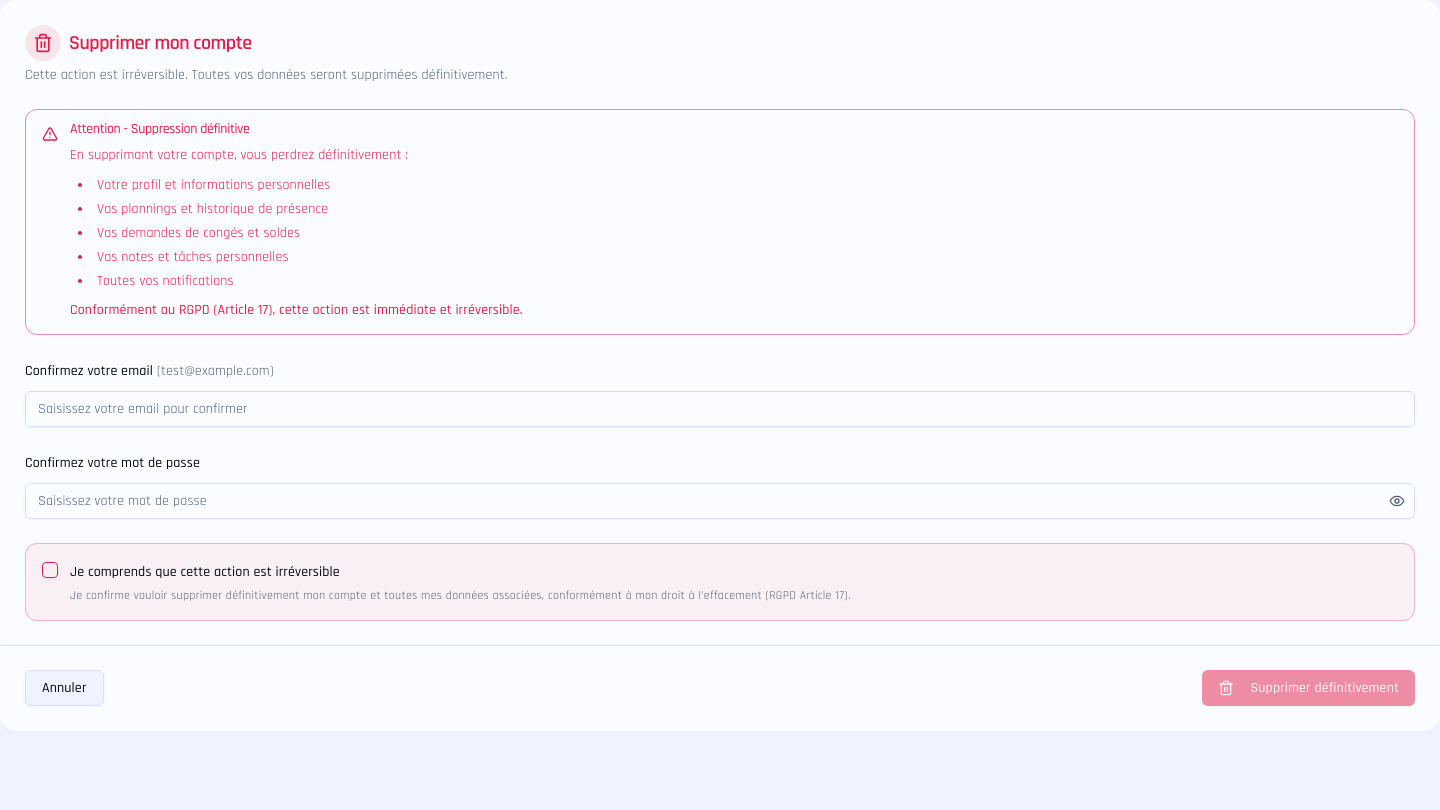
Scenario: DeleteAccountForm › Gestion des erreurs serveur › should show field error when email does not match
The width and height of the screenshot is (1440, 810).
Type "wrong@email.com" into the field with test id "confirm-email-input". click: [720, 408]
box: [25, 390, 1415, 426]
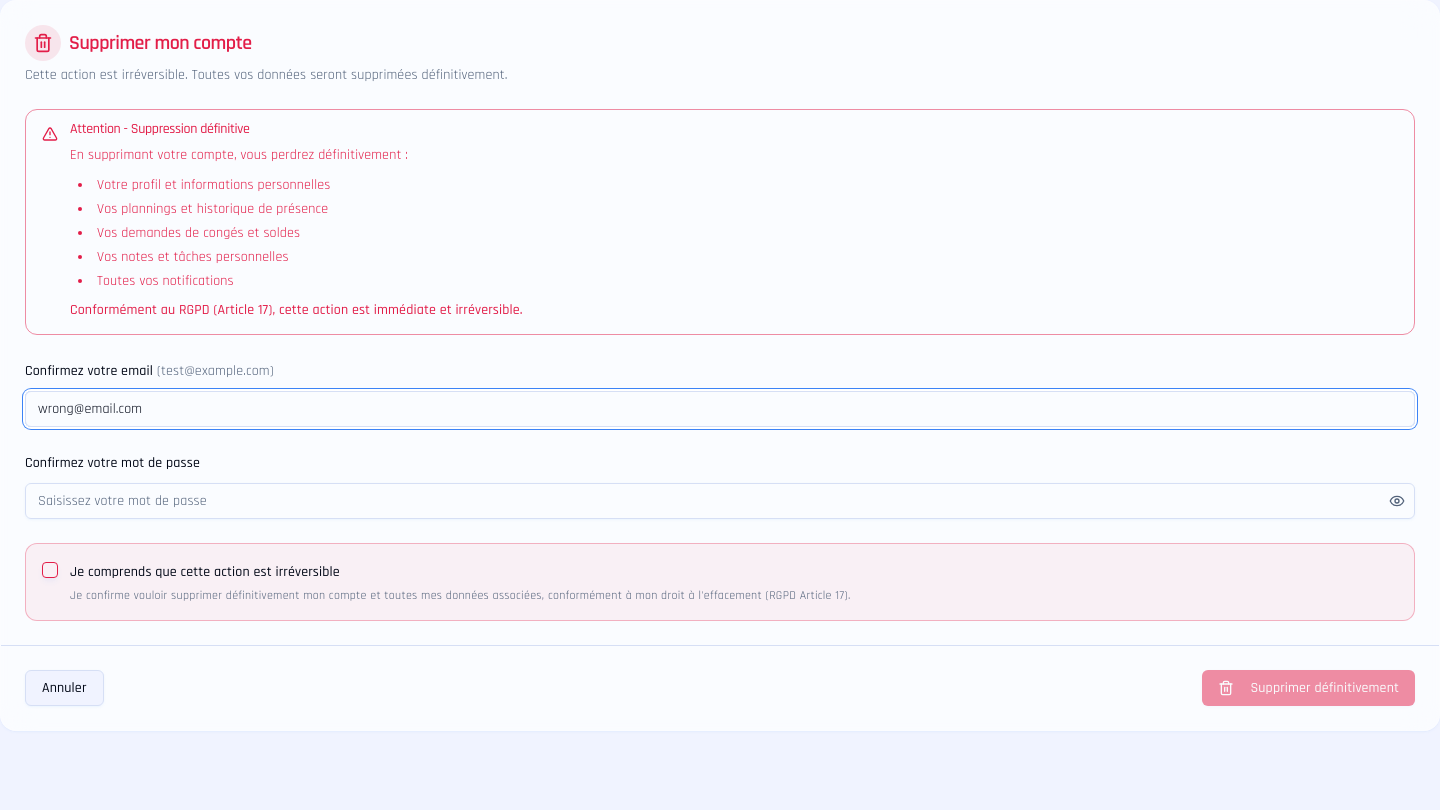
Type "ValidP@ss123" into the password field with test id "password-input". click: [720, 500]
box: [25, 482, 1415, 518]
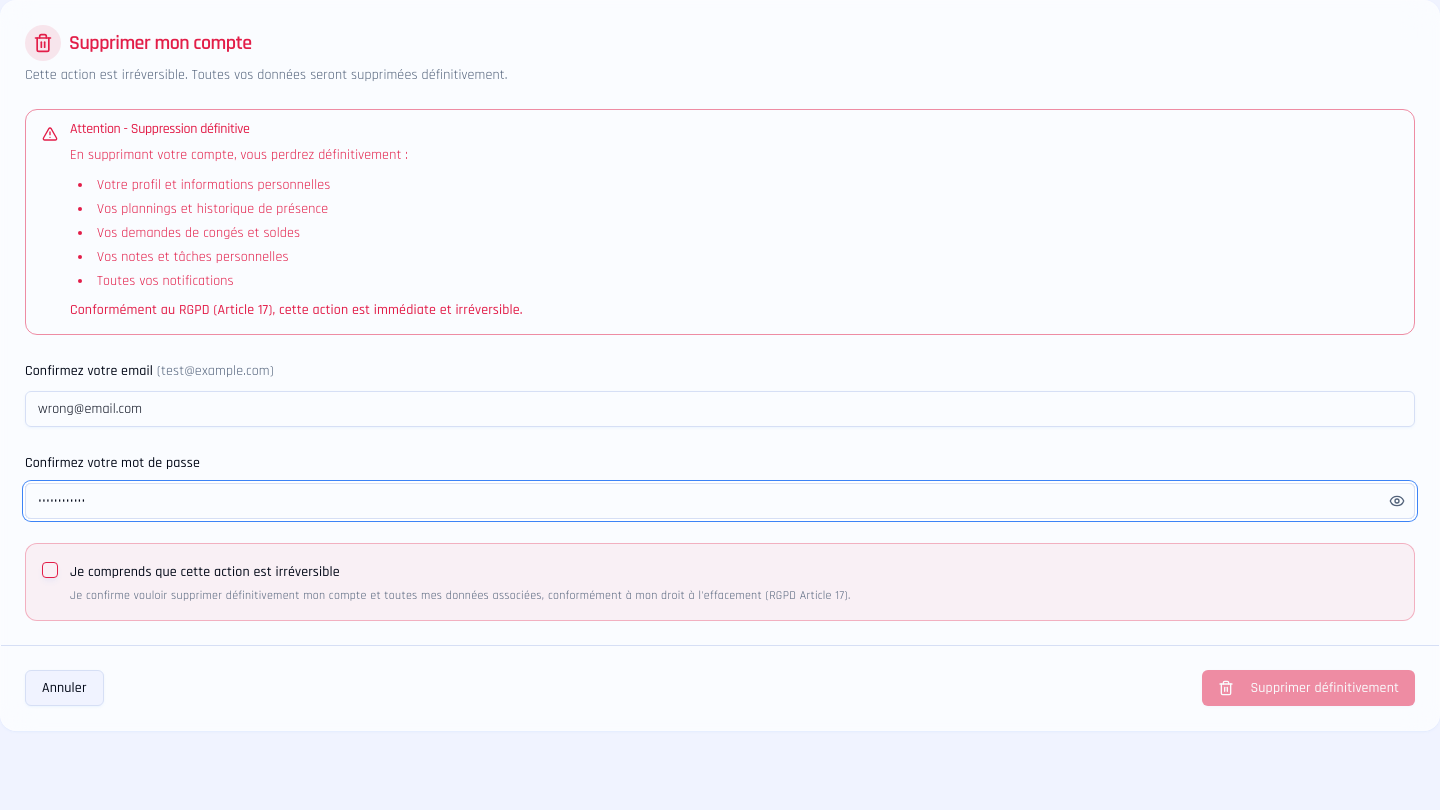
Click the checkbox with test id "confirm-deletion-checkbox". click: [50, 570]
box: [42, 562, 58, 578]
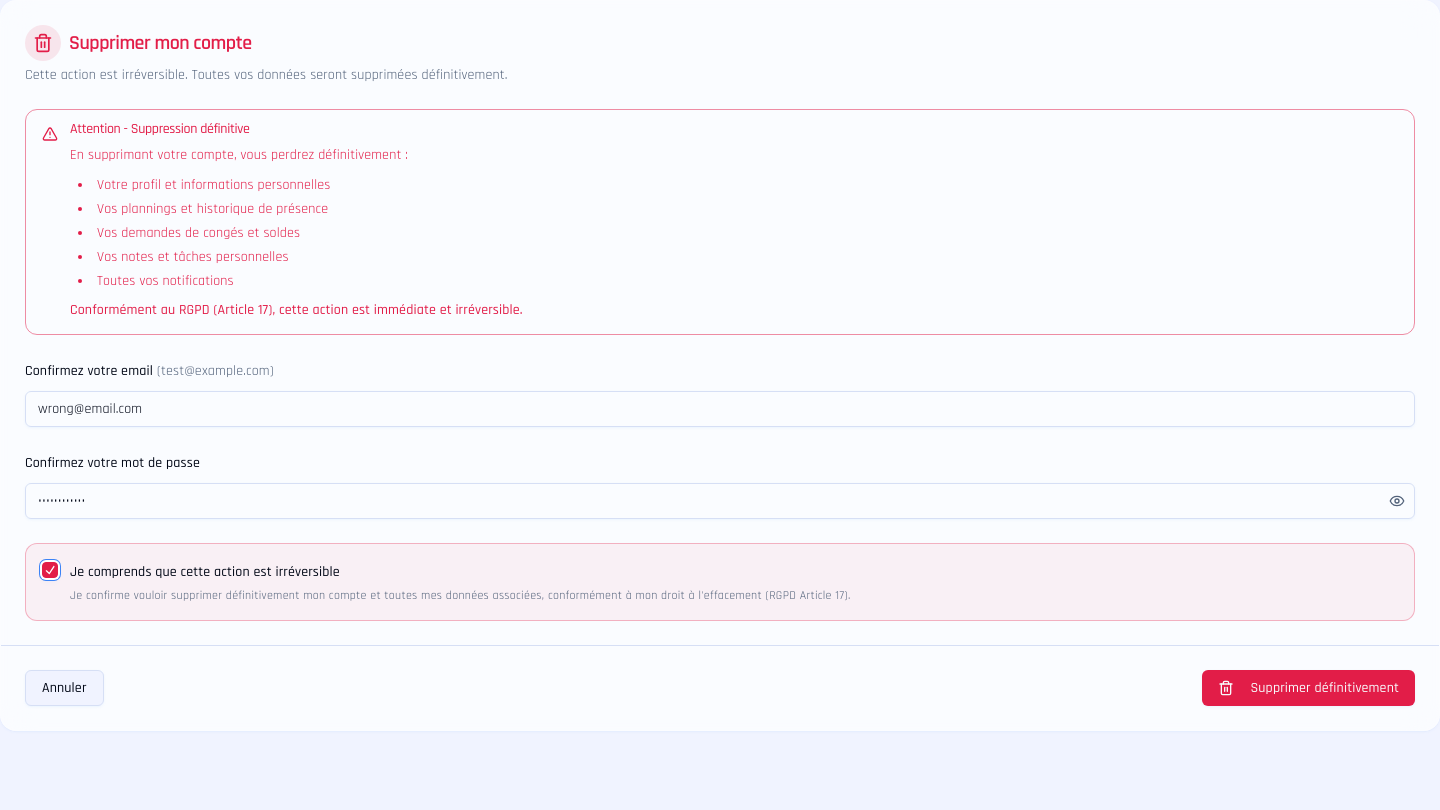
Click the button with test id "delete-account-button". click: [1309, 688]
box: [1202, 670, 1415, 706]
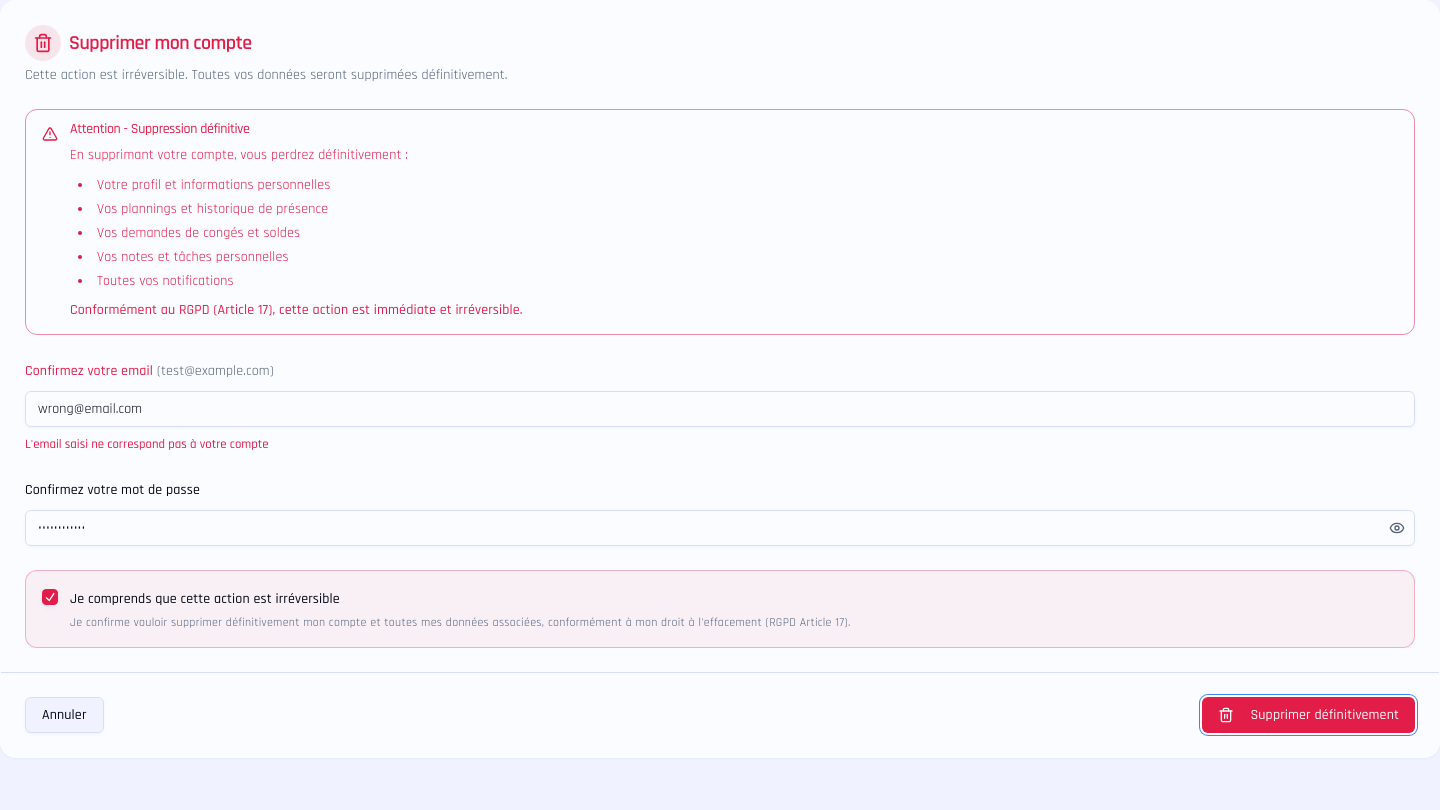
Now the text "L'email saisi ne correspond pas à votre compte" is shown, box [25, 436, 269, 452]
